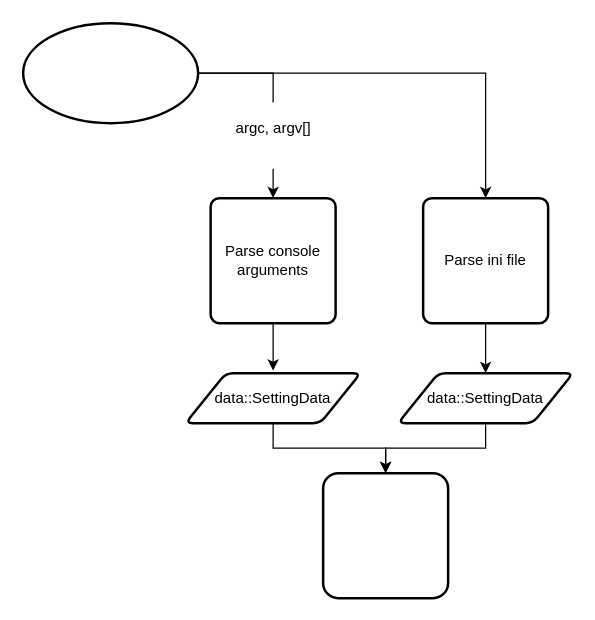
Some shapes in this 595 by 620 pixel diagram are drawn without their labels. The centre of each missing label's shape, as x and y in pixels:
"START PROGRAM" belongs at (110,72).
"Store Settings" belongs at (385,535).
